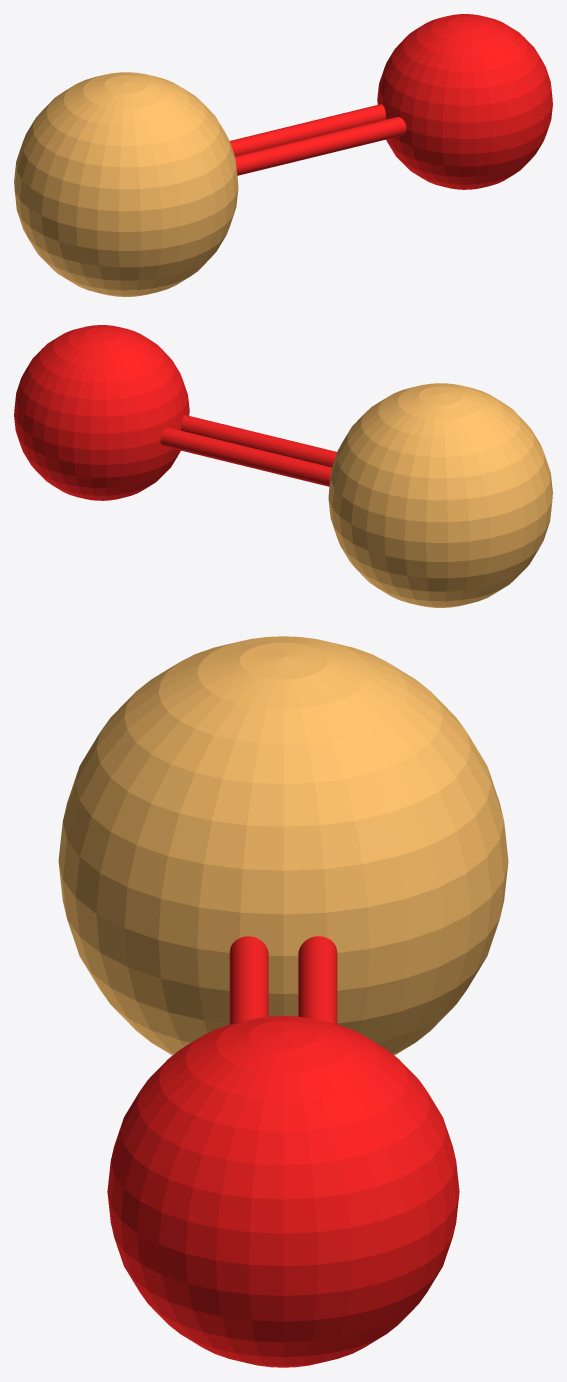
File: calcium_oxide.fbx
3 renders of one model, top to bottom at view 1: azimuth 30°, elevation 25°; view 2: azimuth 150°, elevation 25°; view 3: azimuth 270°, elevation 25°, orthographic. The views are drawn at different scales.
Visible parts, largest first — view 1: calcium_oxide; view 2: calcium_oxide; view 3: calcium_oxide.
Boxes of the visible parts, x1,y1,x2,y2 form: calcium_oxide: (14,14,552,296); calcium_oxide: (14,325,552,607); calcium_oxide: (58,636,508,1367).
Bounding box in the file's own units: 121 × 46 × 46.
